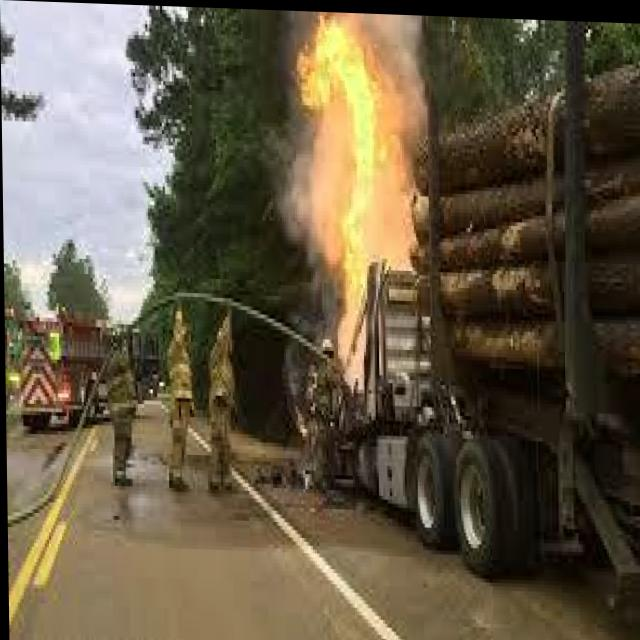fire: (281, 20, 446, 404)
